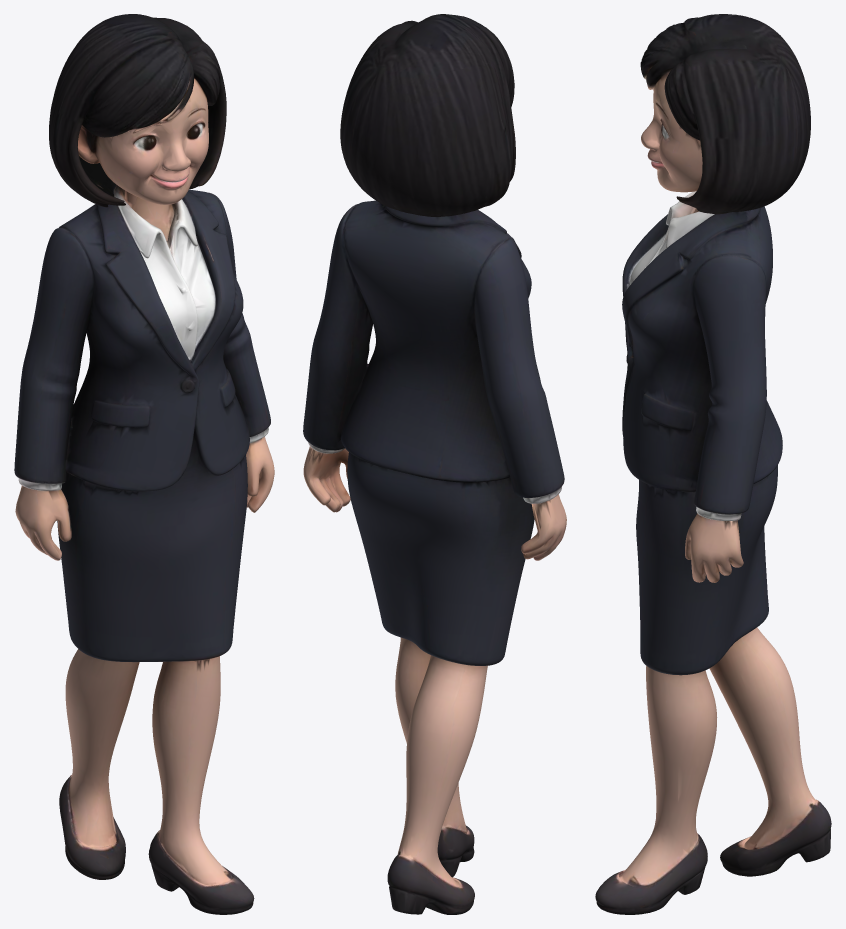
Rendered from player-female.glb.
The picture shows the model from 3 angles, left to right: view 1: azimuth 30°, elevation 25°; view 2: azimuth 150°, elevation 25°; view 3: azimuth 270°, elevation 25°; orthographic projection.
Parts seen in each view (by area): view 1: node_0; view 2: node_0; view 3: node_0.
Part boxes in pixels (x1,y1,x2,y2): node_0: (14, 14, 274, 914); node_0: (303, 14, 566, 914); node_0: (595, 14, 831, 914).
Size of the model in its own units: 0.3544 by 1.17 by 0.2881.
1 material, 1 textured.
